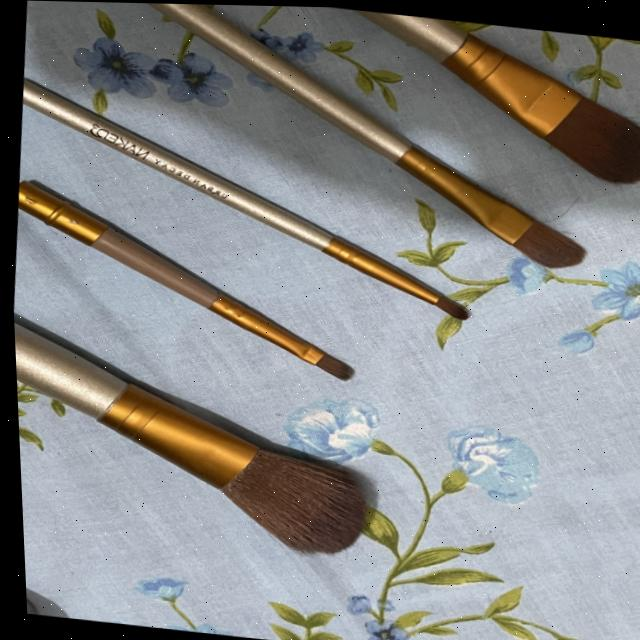brush: (6, 0, 640, 297), (6, 181, 388, 414), (149, 425, 414, 577), (468, 187, 608, 296), (530, 81, 640, 201), (260, 316, 361, 417), (377, 258, 482, 352)
